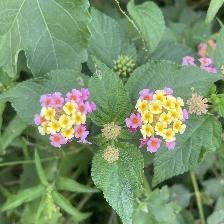common lanthana: (36, 90, 101, 154)
